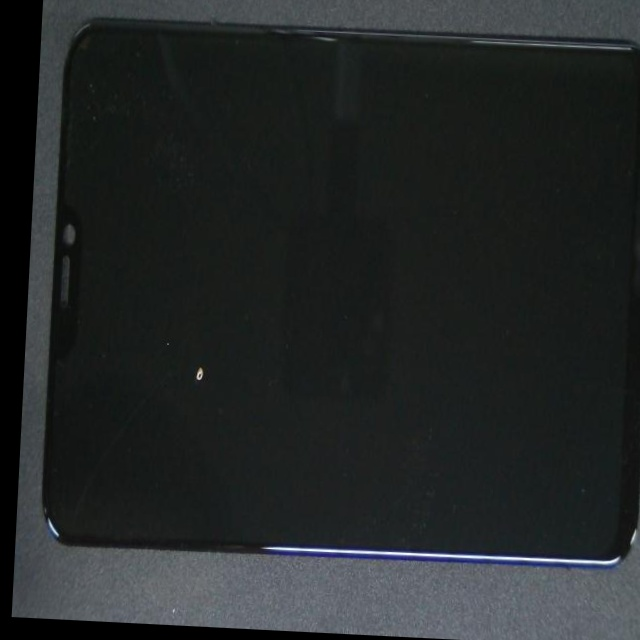stain: (72, 148, 259, 628)
